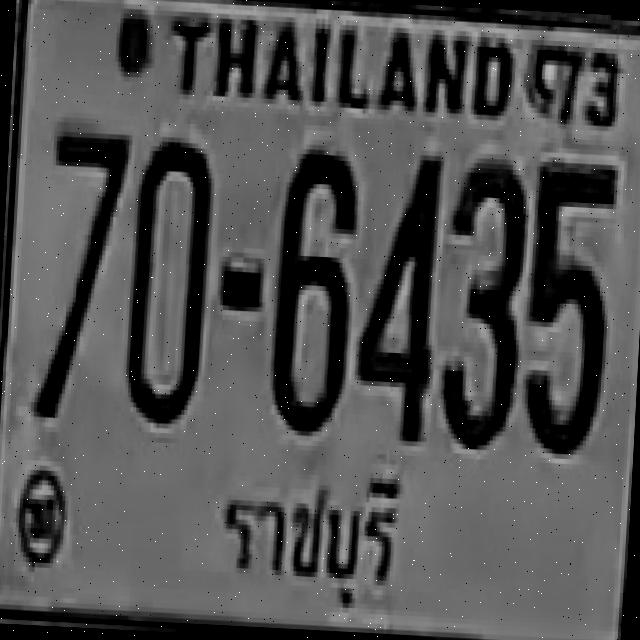0: (122, 133, 212, 423)
3: (436, 152, 529, 447)
4: (352, 145, 442, 440)
5: (521, 156, 617, 452)
6: (266, 143, 359, 433)
7: (35, 124, 128, 418)
Ratchaburi: (208, 455, 404, 620)
